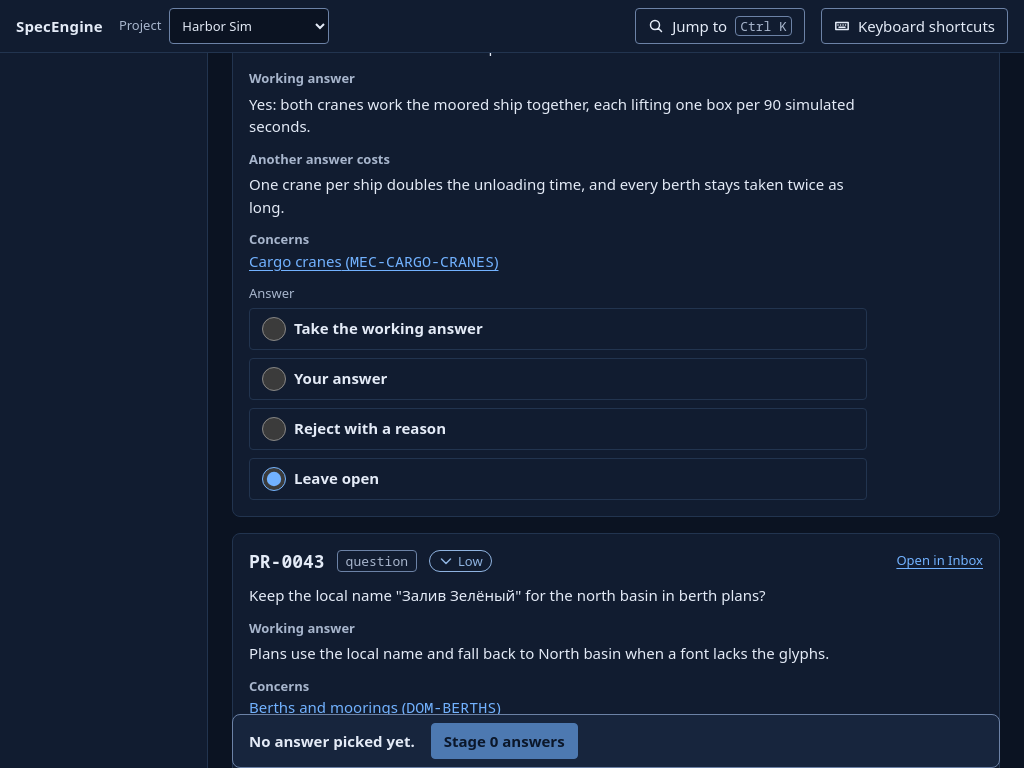
the Questions screen takes the decision by structure (AC-U2) › over HttpClient, Take the working answer POSTs exactly a question's answer: option and answer null
(page scrolled)
Click the radio button labelled "Take the working answer" at (274, 329), box [262,317,286,341]
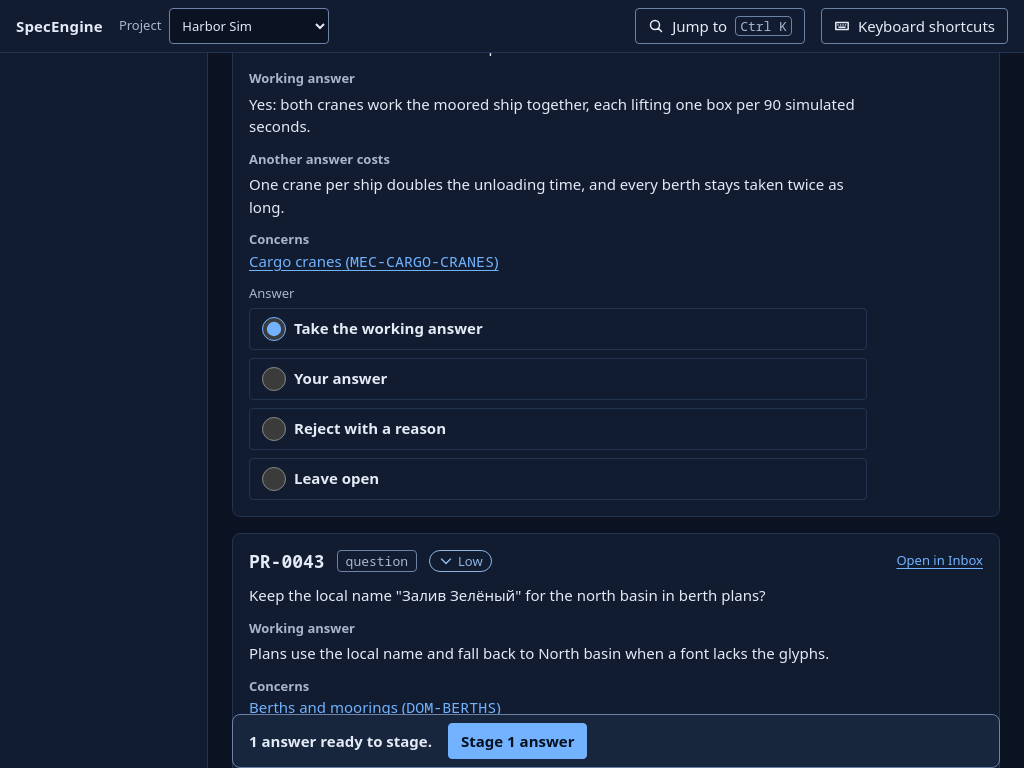
Click the button "Stage 1 answer" at (518, 741), box [448,723,588,759]
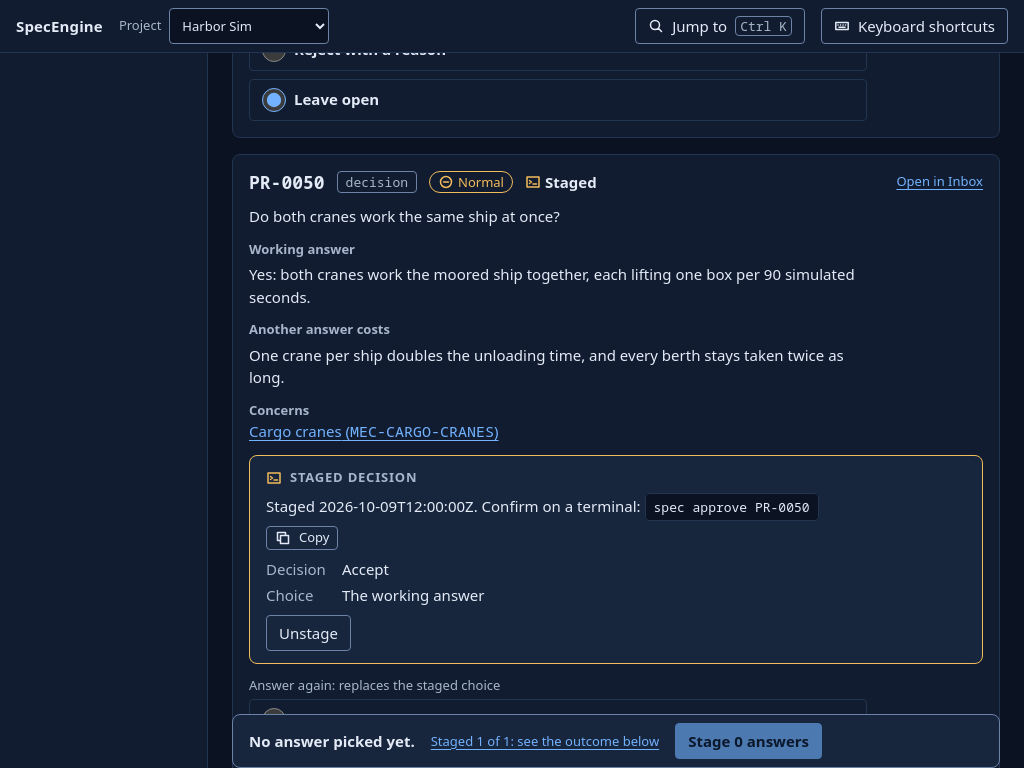
Now the text "The working answer" is shown, box [342,585,484,605]
